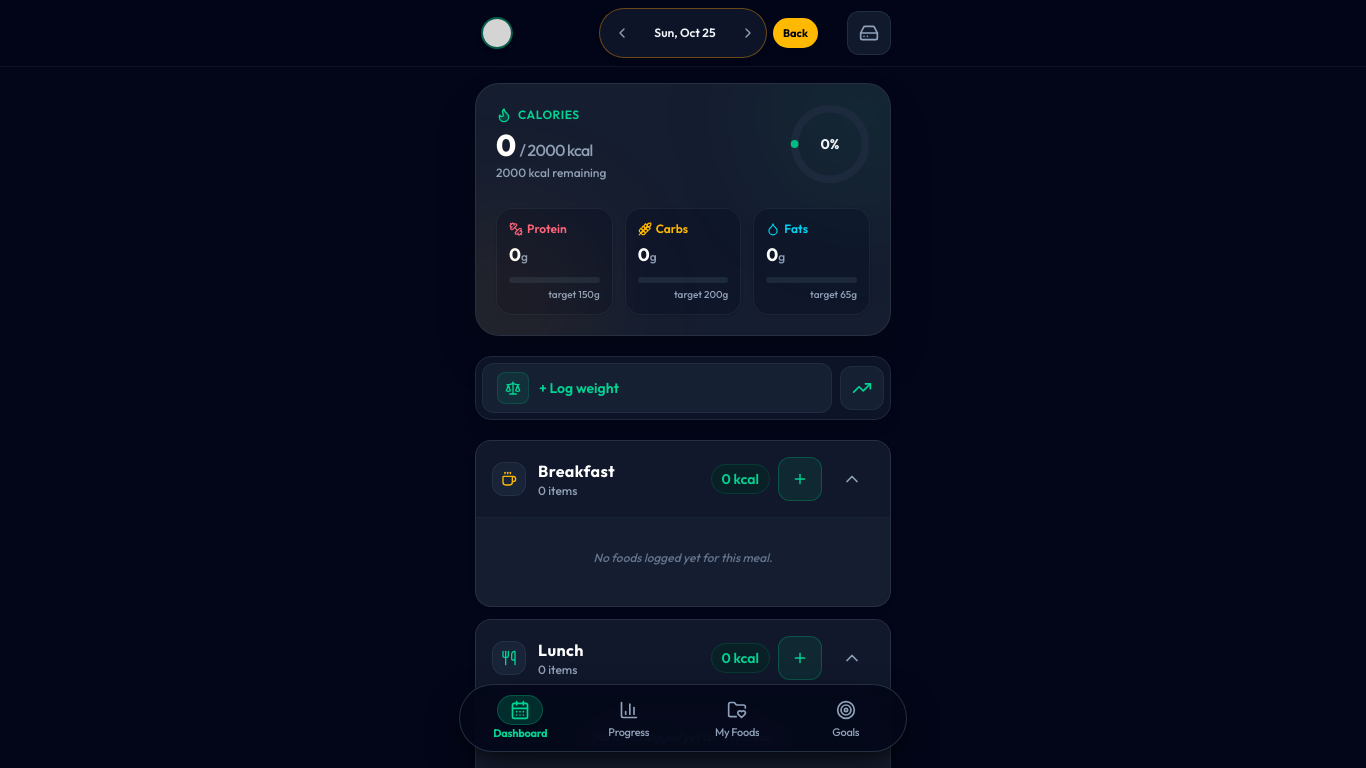
Test: Slide-Over Navigation History & Contextual Back Button › Journey 2: opens PortionModal from AddFoodModal and confirming log closes both dialogs
The image size is (1366, 768).
# Open AddFoodModal
Click the button named "Add food to Lunch": (800, 658) left=778, top=636, right=822, bottom=680
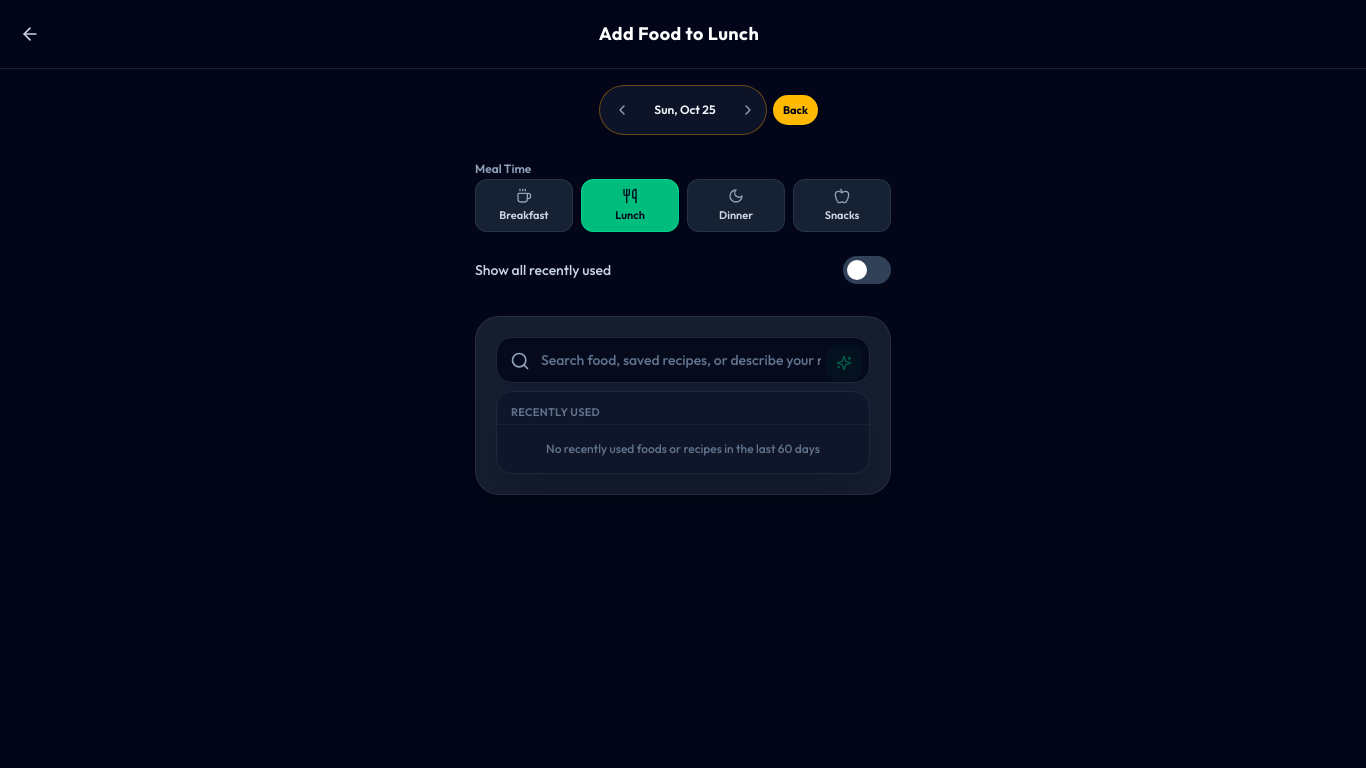
# Type search query
In the field with placeholder "Search food, saved recipes, or describe your meal...": (683, 360) left=496, top=337, right=870, bottom=383, type "Apple"
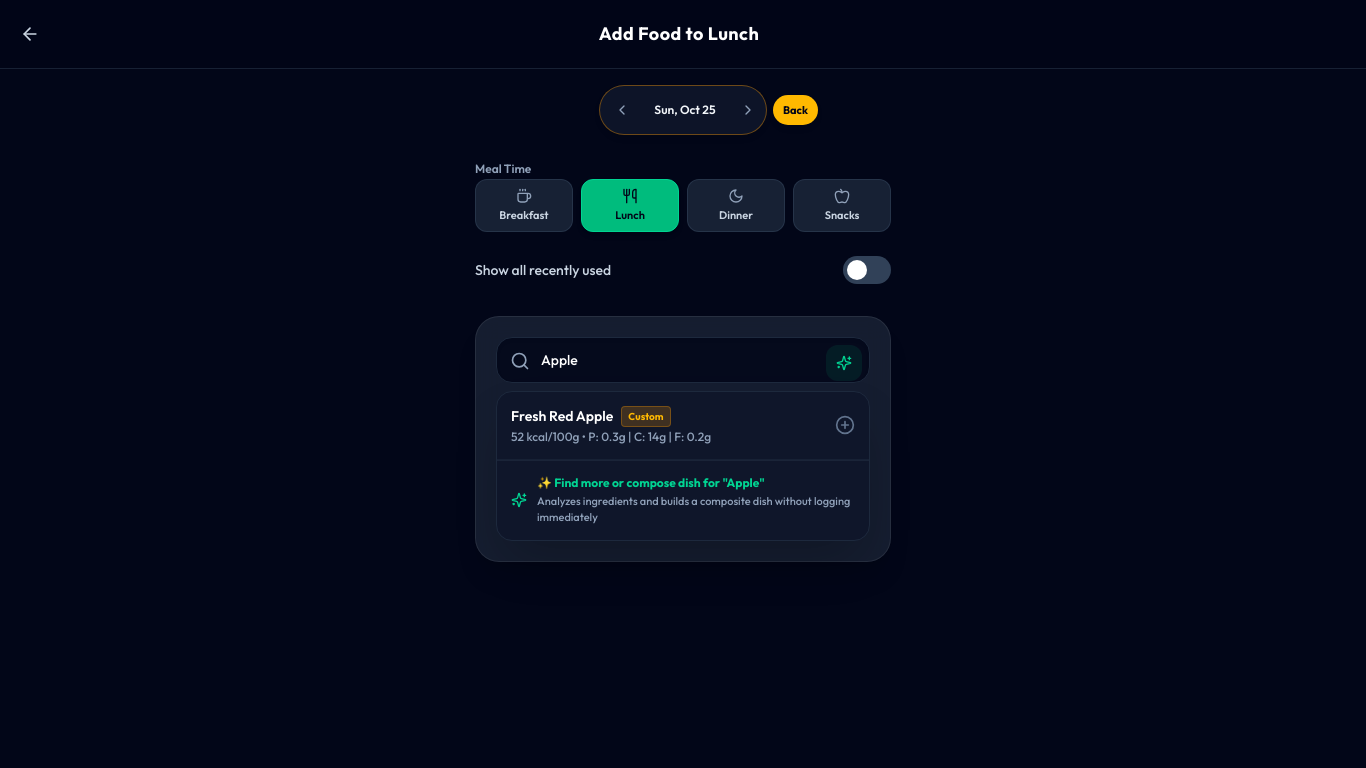
# Select food item
Click the text "Fresh Red Apple": (562, 416) left=511, top=406, right=613, bottom=426
(page scrolled)
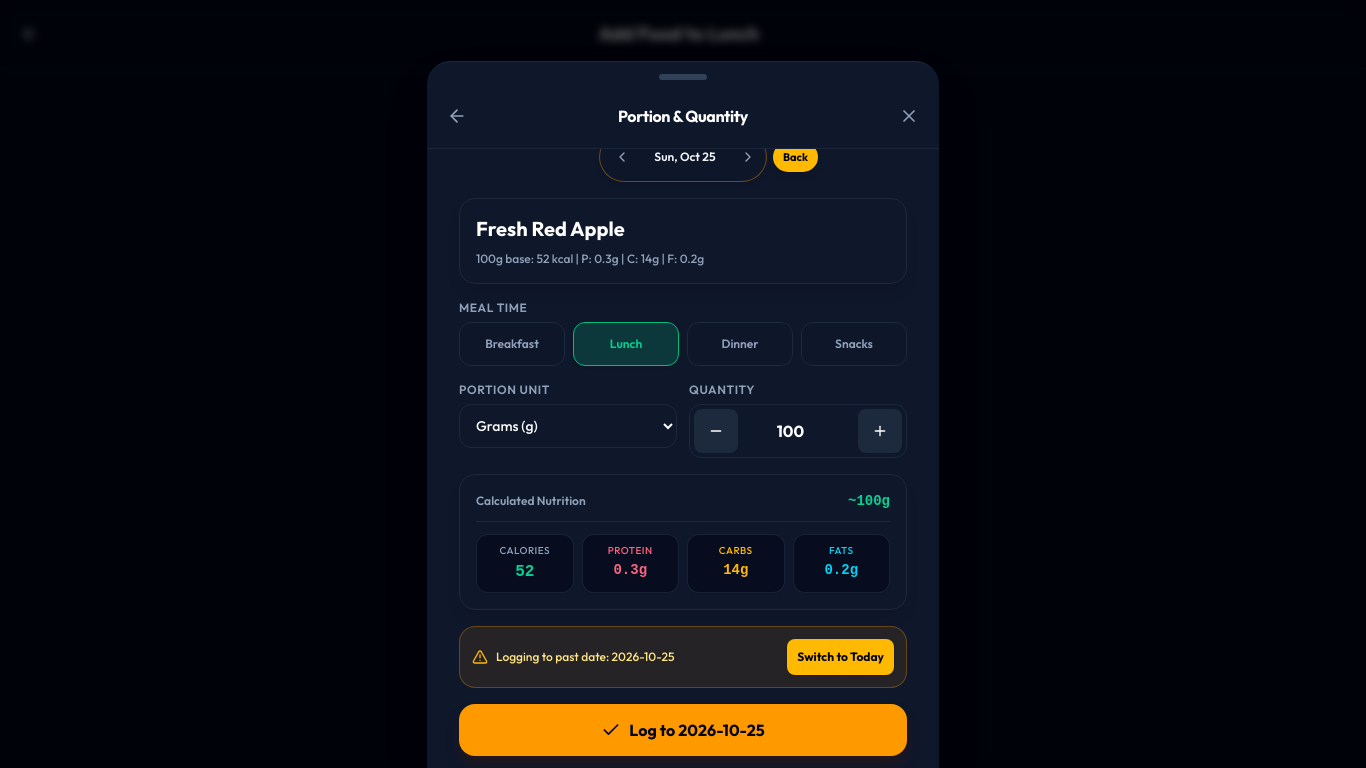
Result: the dialog "Portion & Quantity" is shown at left=427, top=62, right=939, bottom=767
# Click confirm / log action button
Click the button with test id "btn-log-item": (683, 730) left=459, top=704, right=907, bottom=756
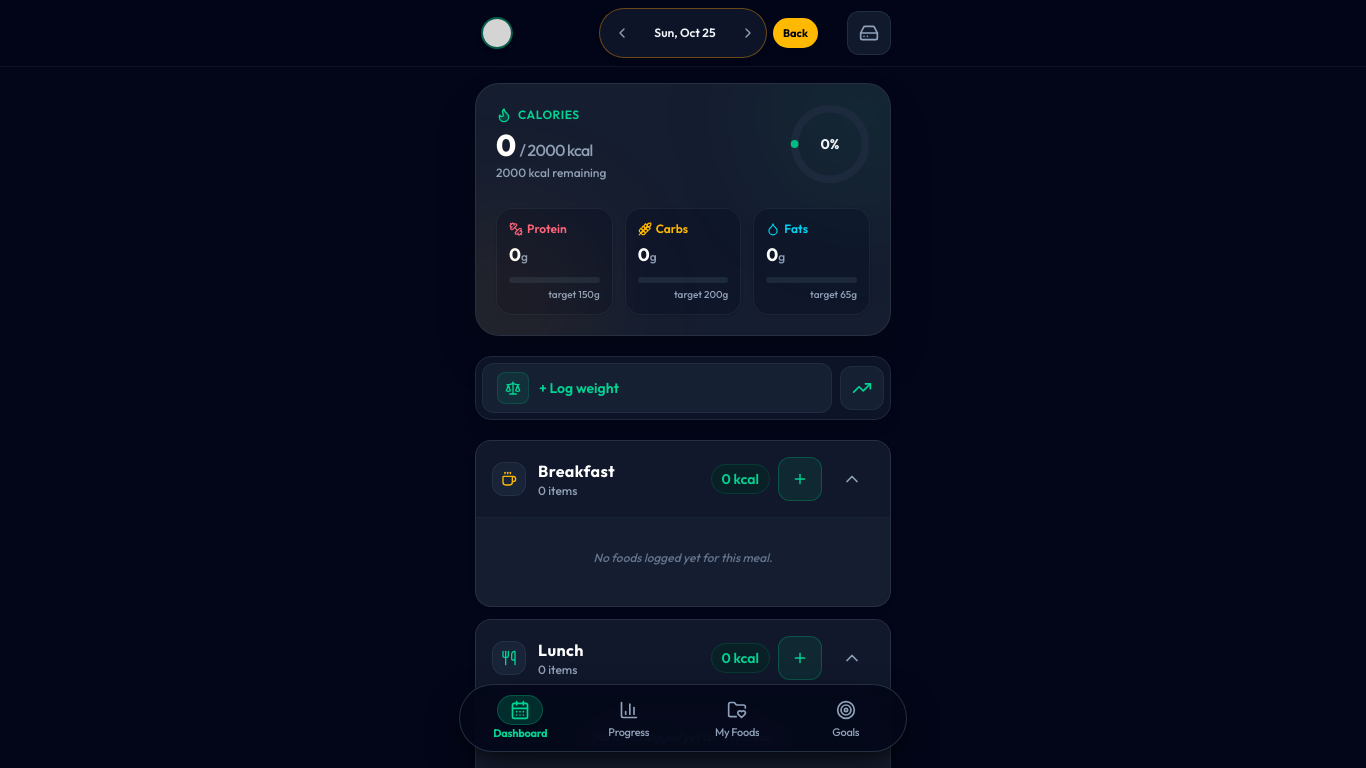
Result: the heading "Portion & Quantity" is gone
